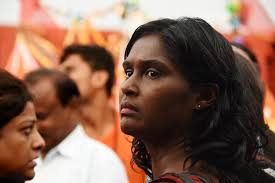indian_female: (92, 17, 236, 149)
